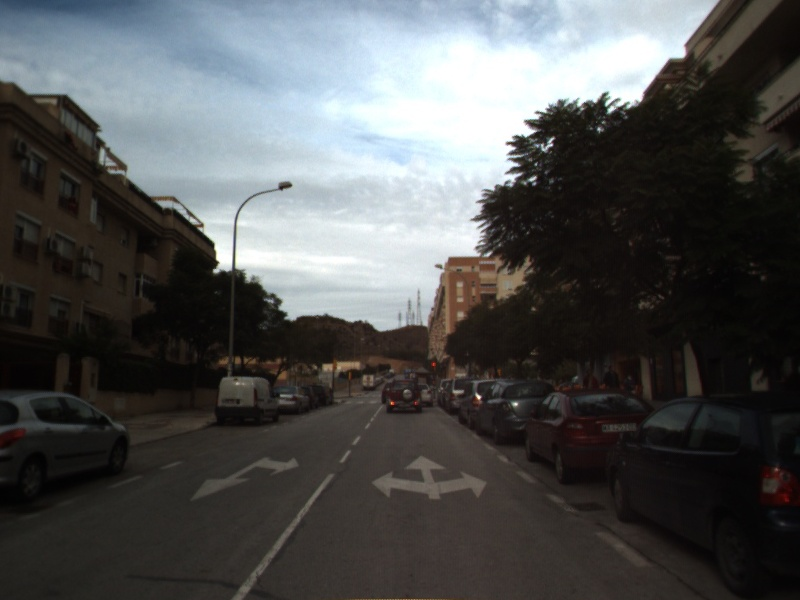STRAIGHT_LEFT_RIGHT: (369, 453, 490, 502)
